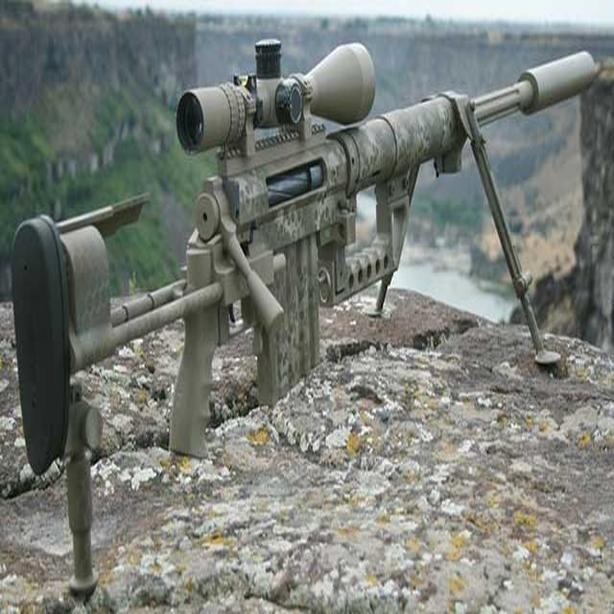Firearm: (21, 35, 607, 536)
